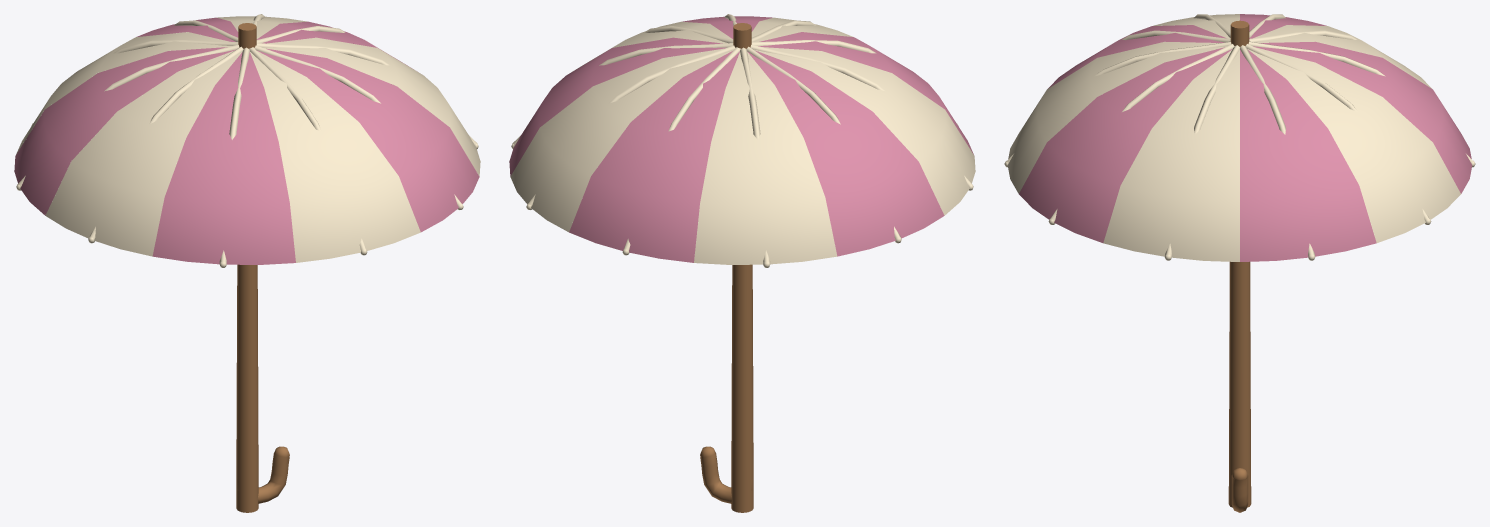
File: almanac-gardens-spring-umbrella-034980c8__22070.glb
3 views of the same model, side by side, from view 1: azimuth 30°, elevation 25°; view 2: azimuth 150°, elevation 25°; view 3: azimuth 270°, elevation 25° (orthographic).
Visible parts, largest first — view 1: spring-umbrella-ivory, spring-umbrella-pink, spring-umbrella-oak; view 2: spring-umbrella-ivory, spring-umbrella-pink, spring-umbrella-oak; view 3: spring-umbrella-ivory, spring-umbrella-pink, spring-umbrella-oak.
Boxes of the visible parts, box(x1,y1,x2,y2) form: spring-umbrella-ivory: box(16, 14, 480, 267); spring-umbrella-pink: box(14, 17, 479, 264); spring-umbrella-oak: box(236, 23, 289, 512); spring-umbrella-ivory: box(510, 14, 975, 267); spring-umbrella-pink: box(509, 16, 973, 262); spring-umbrella-oak: box(700, 23, 753, 512); spring-umbrella-ivory: box(1004, 14, 1475, 261); spring-umbrella-pink: box(1019, 14, 1472, 261); spring-umbrella-oak: box(1228, 20, 1251, 512).
Size of the model in its own units: 1.12 by 1.27 by 1.13.
